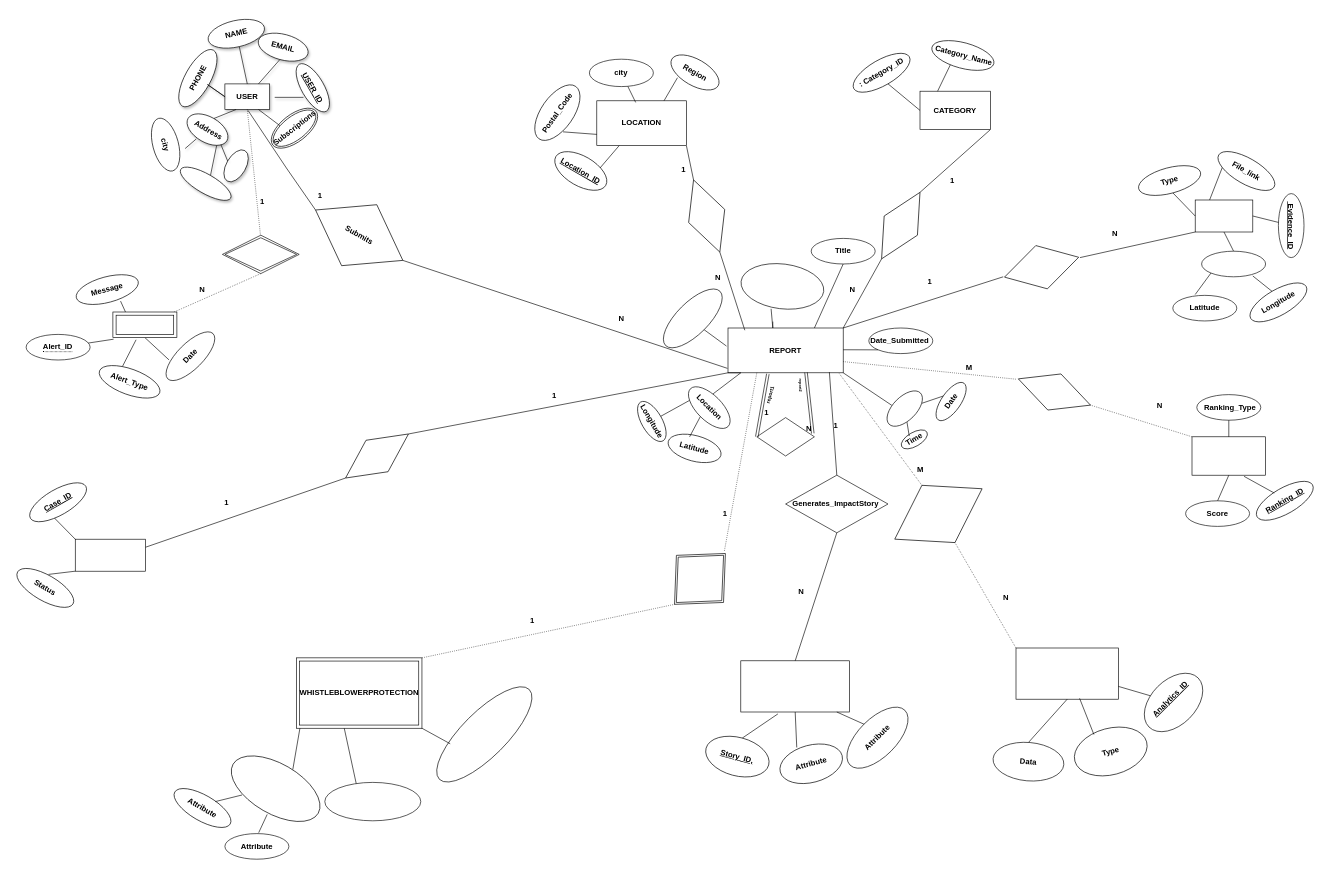
This 1331x871 diagram has some shape labels left out. Here are the shapes that lost their labels. From the top down, the centre of each, then its label:
At (206,184): "street".
At (236,166): "zip".
At (706,216): "Occurs_At".
At (900,225): "belongs_to".
At (1224,215): "EVIDENCE".
At (260,254): "Subscribes_To".
At (1041,267): "Has_Evidence".
At (1233,264): "GPS".
At (782,286): "Description".
At (144,324): "Alert".
At (692,318): "Report_ID".
At (904,408): "Time_Stamp".
At (1054,391): "Affects_Ranking".
At (377,455): "Leads_To".
At (785,436): "Is_Followed_By".
At (1228,455): "RANKING".
At (938,513): "Generates_Analytics".
At (110,555): "CASE".
At (699,578): "Has_Protection".
At (795,686): "IMPACTSTORY".
At (1066,673): "ANALYSIS".
At (484,734): "Protection_Level".
At (275,788): "Encryption_Techniques".
At (372,801): "Protection_ID".
